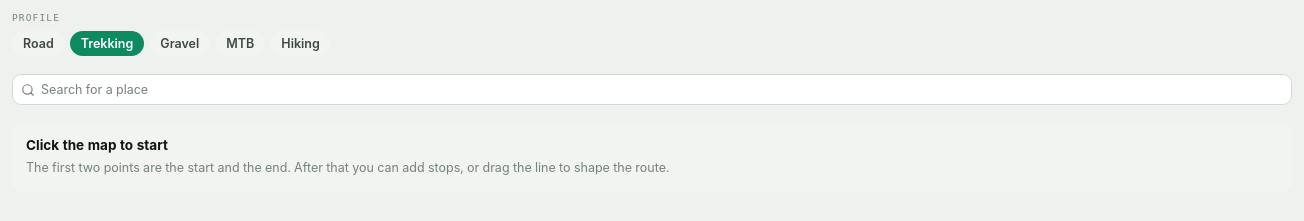
Scenario: the waypoint panel › offers only Add before the plan has anywhere to insert into
This screenshot has width=1304, height=221.
In the search field labelled "Search for a place": (652, 90) [12,74,1292,105], type "Vent"
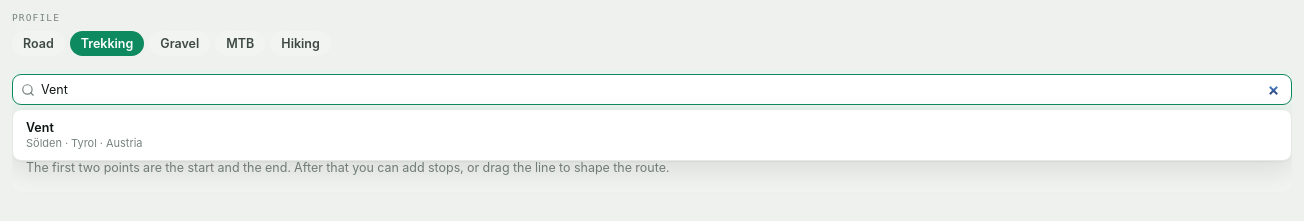
Hover over the text "Vent": (40, 128) [26,120,54,135]
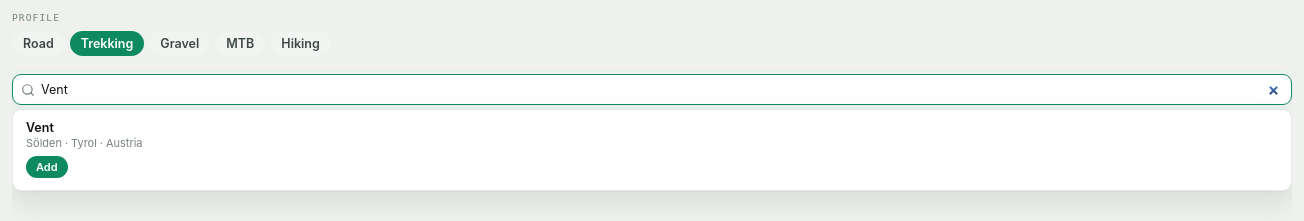
Expected: the button "Add" is shown, [26,156,68,178]
